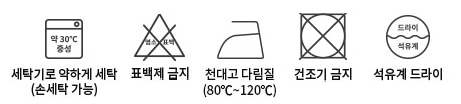KR_dry_clean_petroleum: (379, 10, 436, 65)
KR_no_chlorine_bleach: (131, 10, 188, 63)
KR_no_tumble_dry: (294, 8, 351, 65)
KR_wash_warm_30_neutral: (40, 12, 87, 63)
